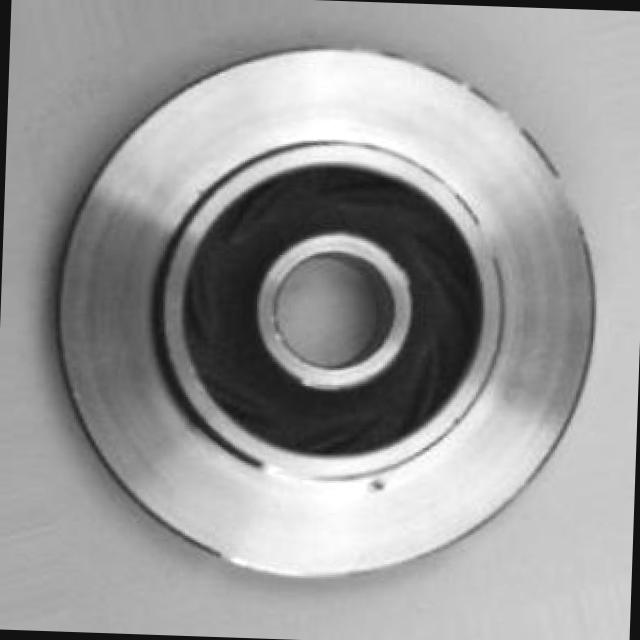Defect: (364, 474, 395, 500)
